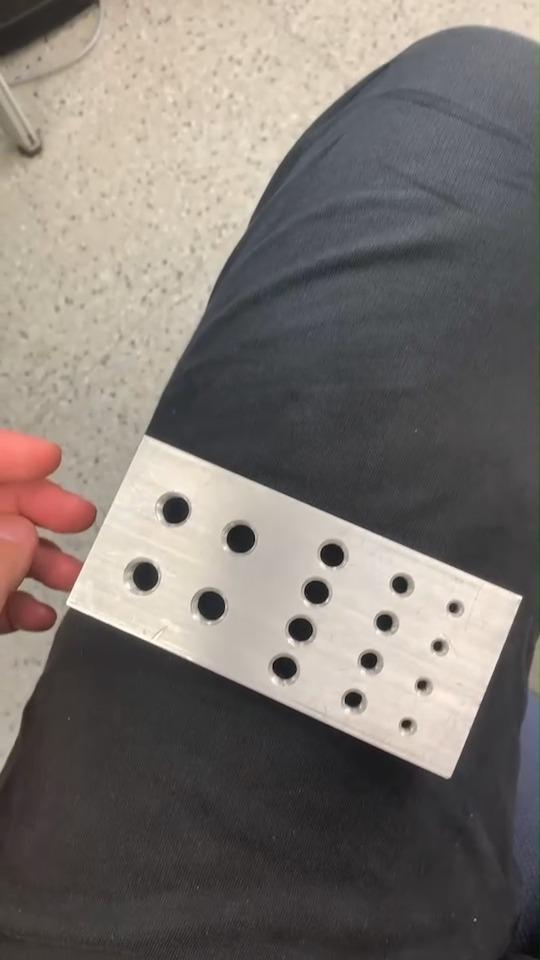hole: (121, 556, 162, 598), (188, 586, 230, 626), (153, 491, 194, 530), (220, 518, 260, 556), (266, 654, 302, 690), (316, 536, 352, 571), (284, 612, 320, 647), (300, 574, 334, 606), (370, 608, 402, 638), (356, 645, 386, 677), (388, 570, 417, 600), (340, 687, 370, 716), (413, 676, 435, 699), (428, 636, 449, 660), (399, 714, 419, 738), (445, 597, 466, 619)
